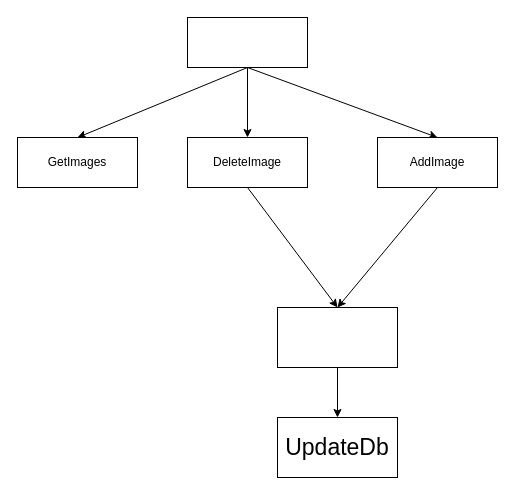
The diagram is 515 pixels wide and 495 high, and some of its shapes have lost their labels. Each missing label, with the centre of its shape:
FileService: (247,42)
NotifyDb: (337,337)
